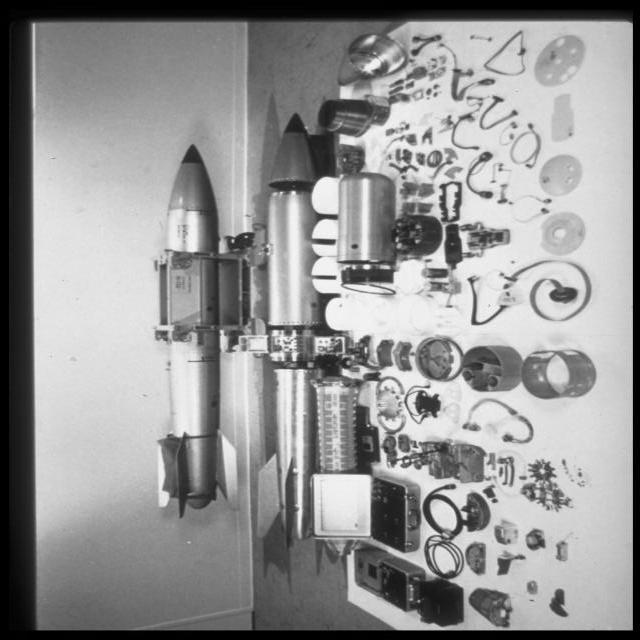Missile: (144, 143, 220, 520)
